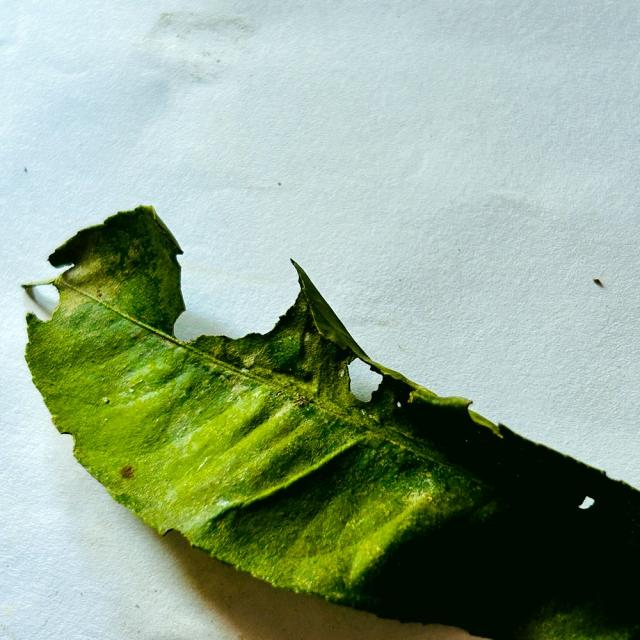Deficiency Leaf: (165, 223, 299, 336), (330, 346, 390, 413), (564, 484, 606, 518)
Lemon: (26, 207, 639, 639)
